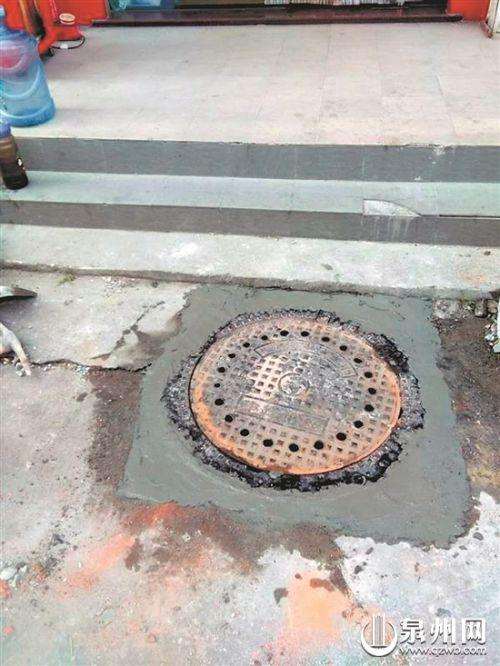good: (159, 285, 464, 534)
